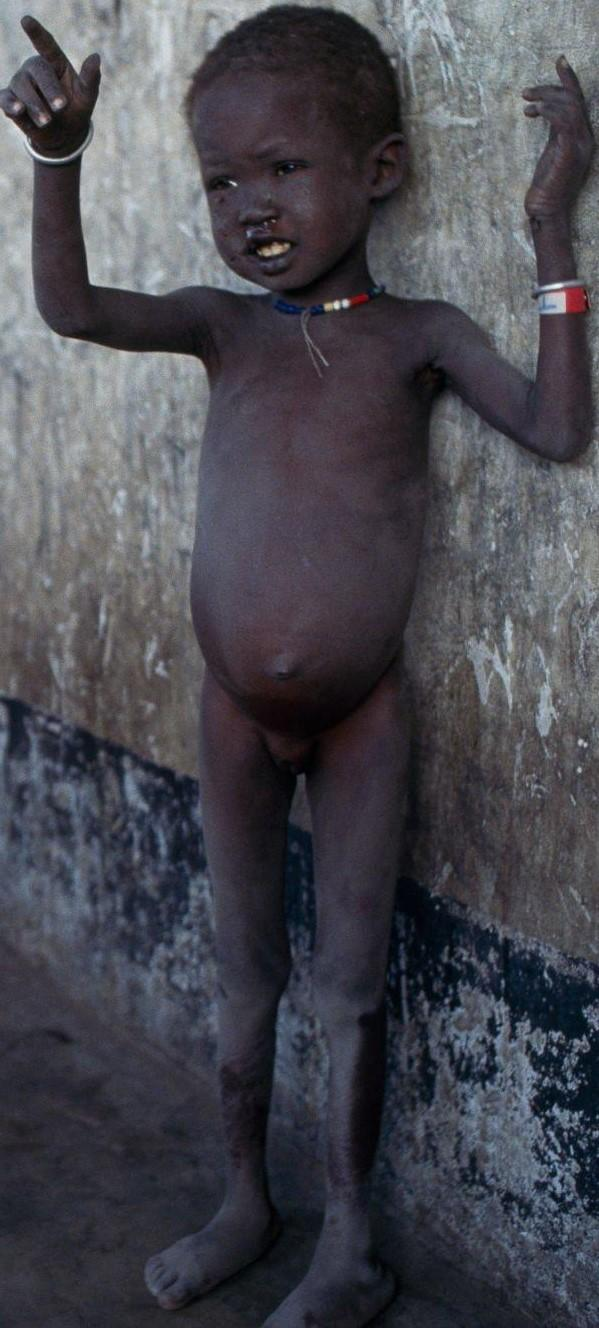Stunting: (127, 0, 473, 417)
